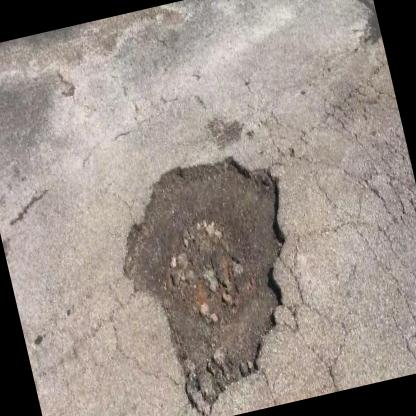pothole: (99, 133, 329, 416)
